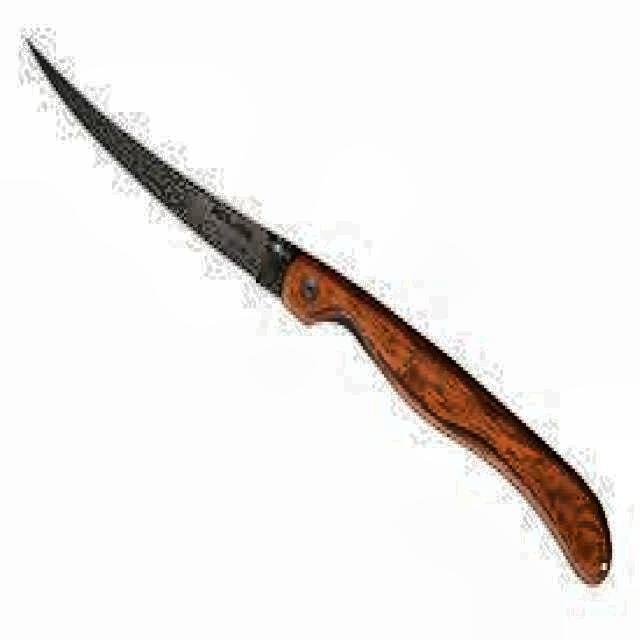knife: (20, 27, 618, 600)
